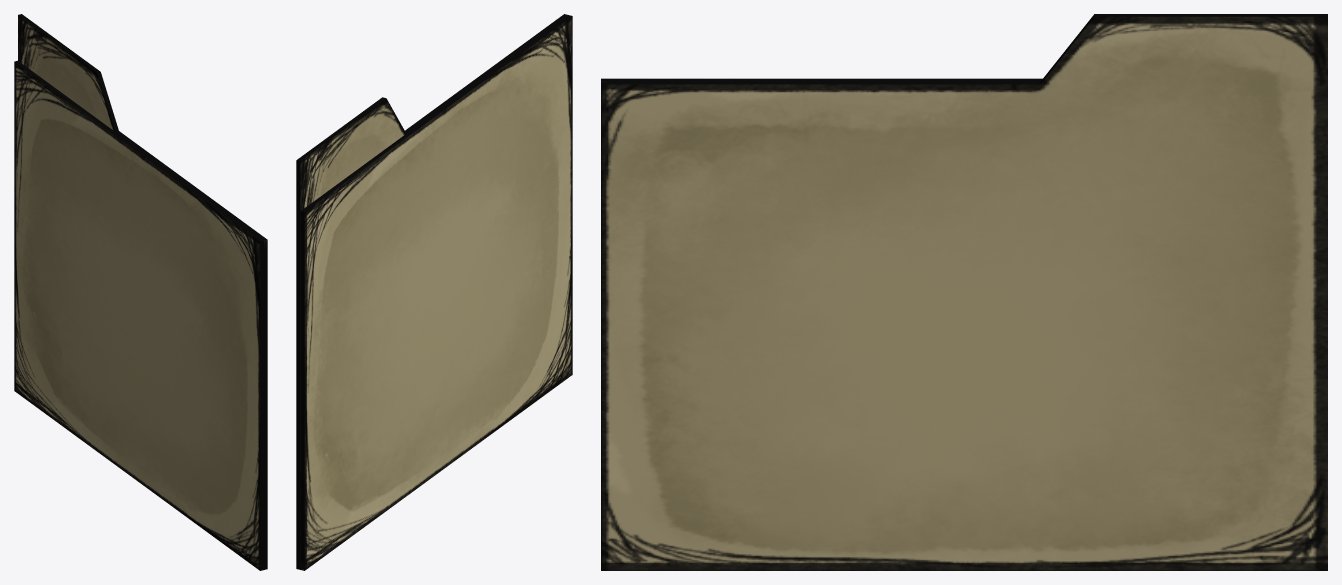
Rendered from folder_papers_1.fbx.
3 views of the same model, side by side, from view 1: azimuth 30°, elevation 25°; view 2: azimuth 150°, elevation 25°; view 3: azimuth 270°, elevation 25° (orthographic). The views are drawn at different scales.
Visible parts, largest first — view 1: folder_front.007, folder_papers_1; view 2: folder_front.007, folder_papers_1; view 3: folder_papers_1, folder_front.007.
Part boxes in pixels (box(x1,y1,x2,y2)): folder_front.007: box(14, 60, 263, 570); folder_papers_1: box(18, 14, 267, 569); folder_front.007: box(300, 15, 572, 570); folder_papers_1: box(296, 14, 567, 569); folder_papers_1: box(601, 14, 1327, 570); folder_front.007: box(601, 78, 1042, 81).
Size of the model in its own units: 1.13 by 53.74 by 63.85.
Materials: 2 (2 with a texture image).
